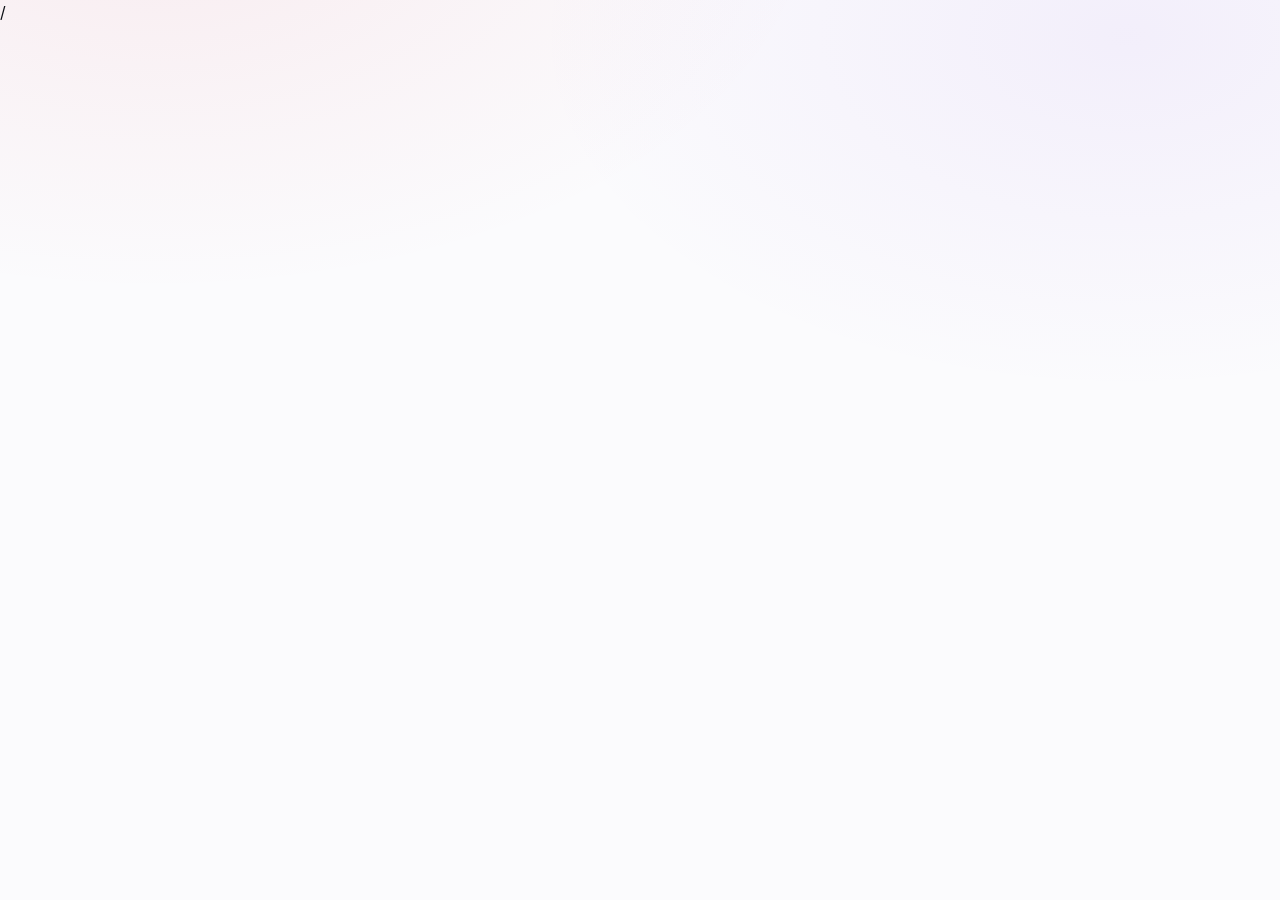
Test: typing filters the command list
Press k
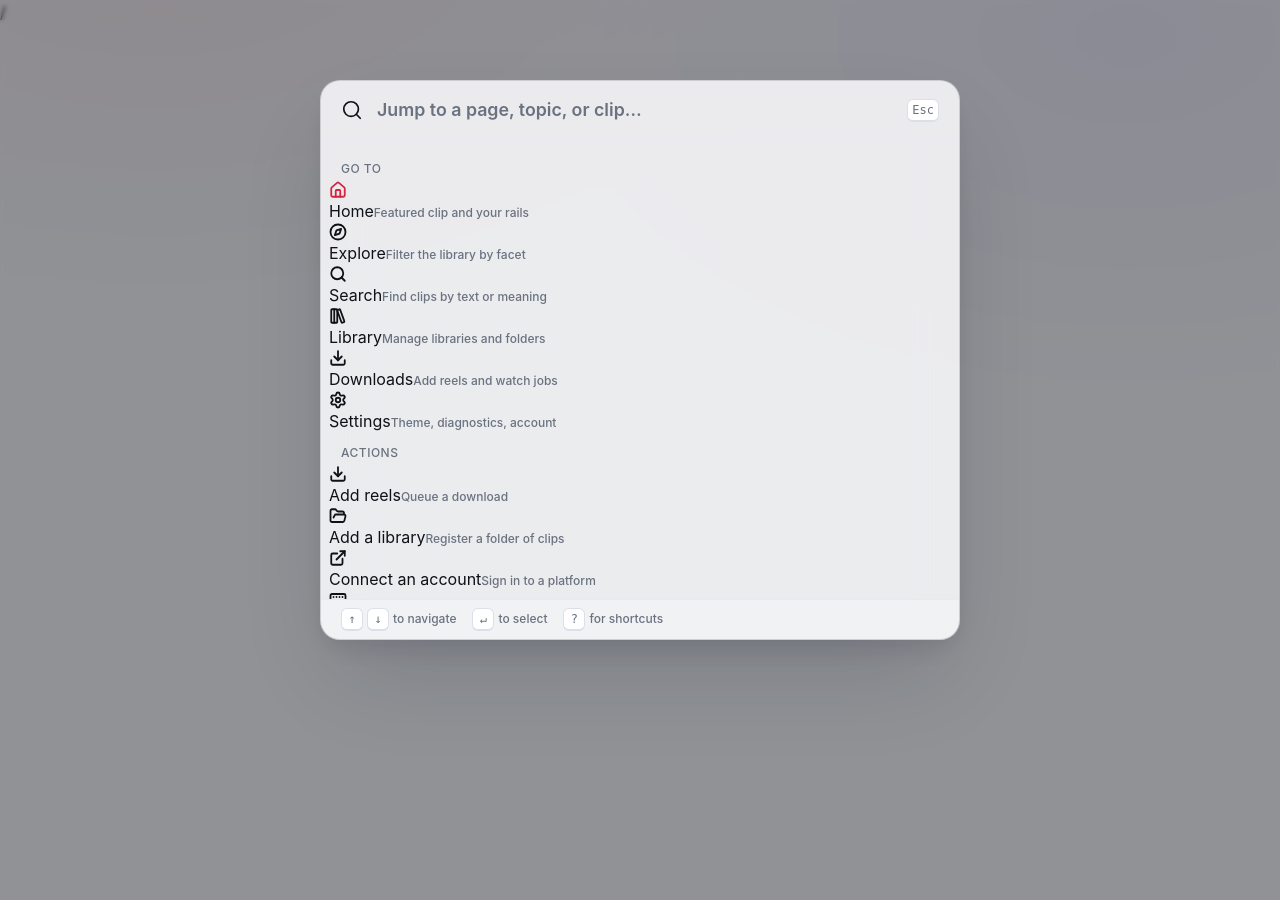
Now the option "Explore" is shown, box 329,223 -> 526,263
Type "downl" into the dropdown at (635, 110), box 375,97 -> 895,124
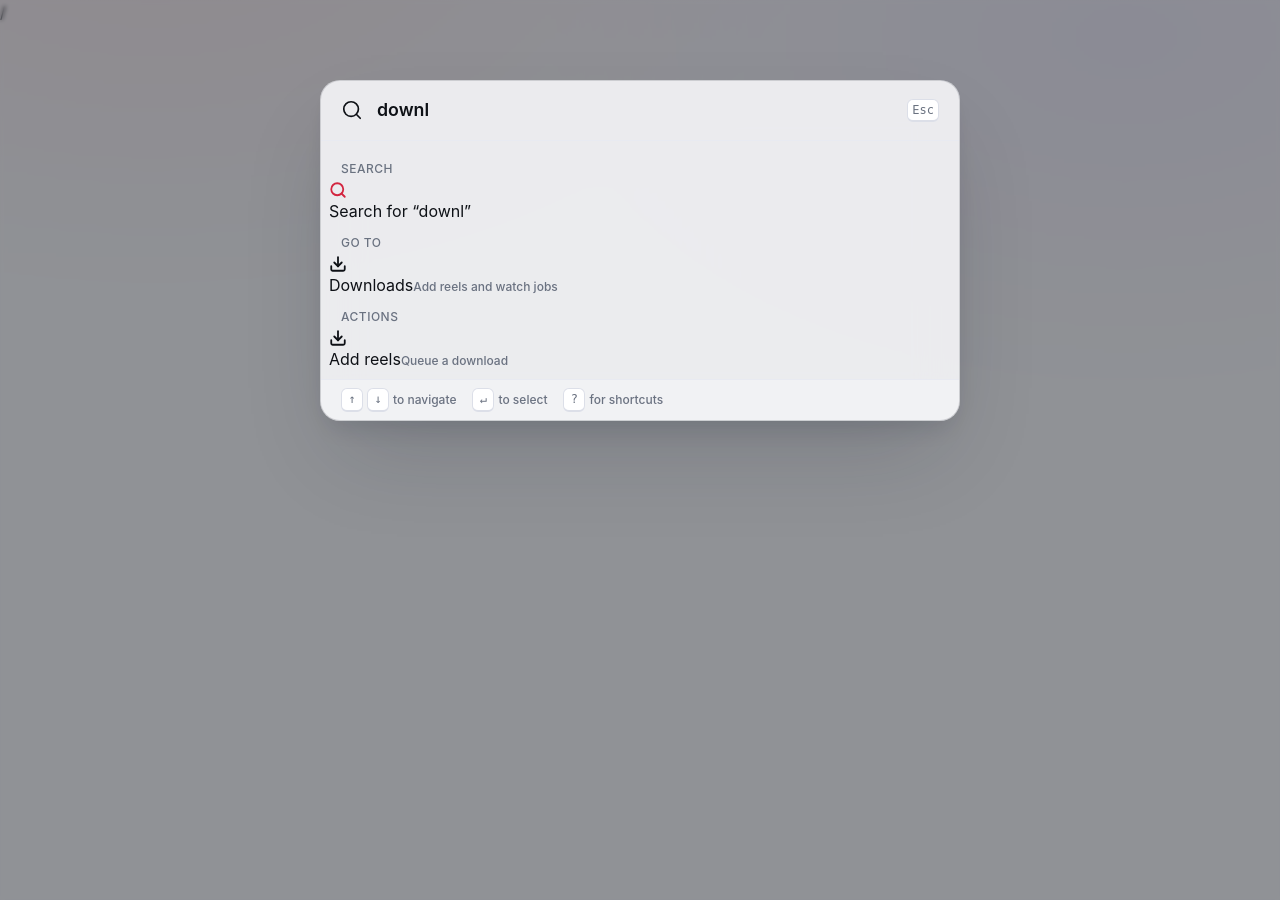
Now the option "Downloads" is shown, box 329,255 -> 558,295
Now the option "Explore" is gone
